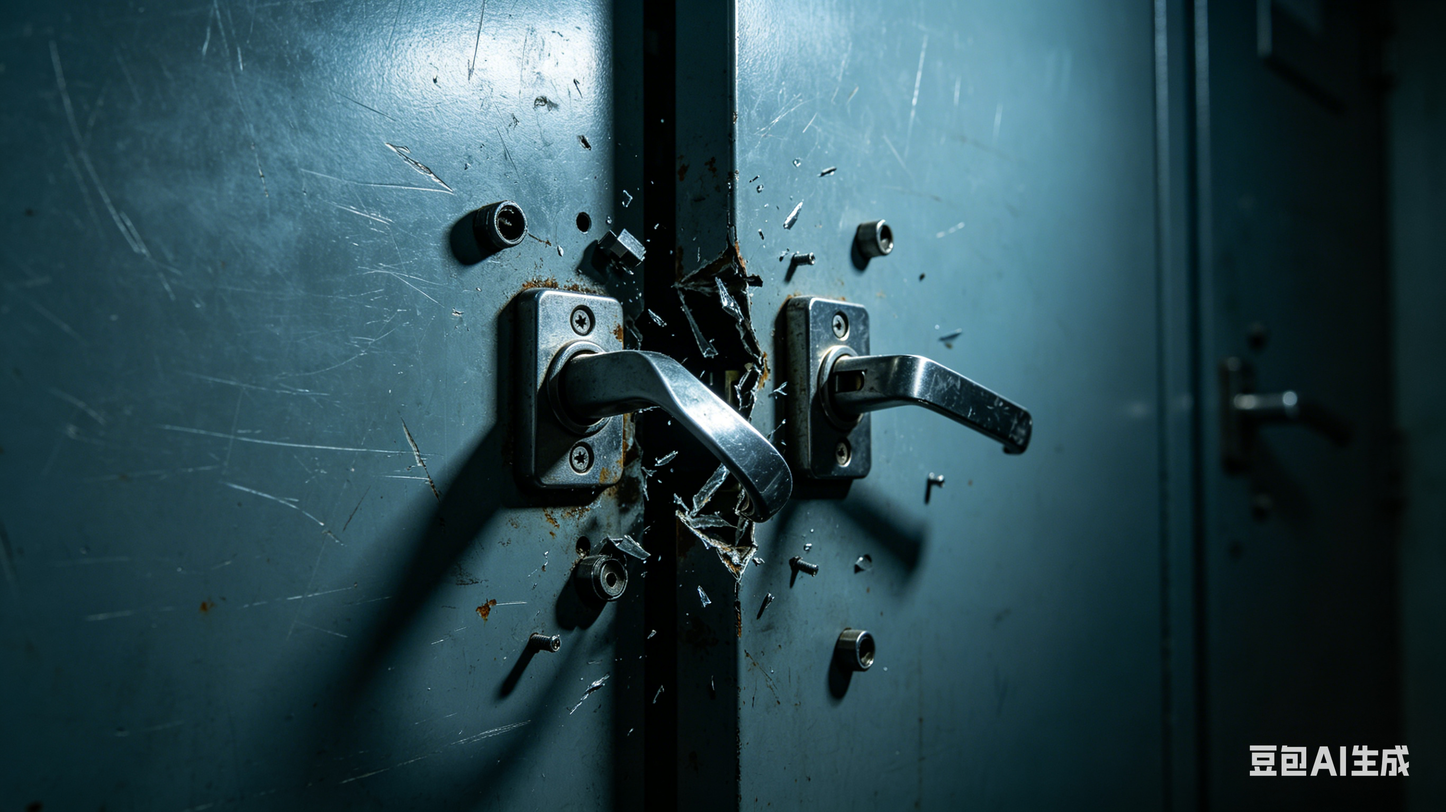BadLock: (527, 287, 803, 506)
